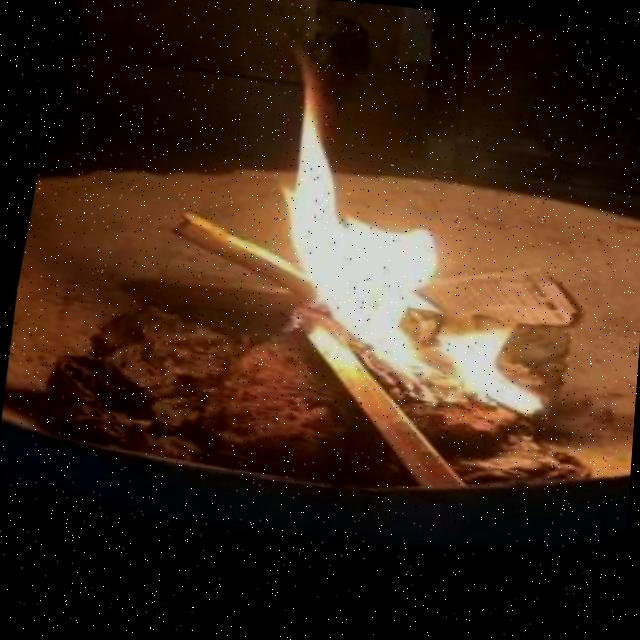fire: (268, 64, 557, 416)
